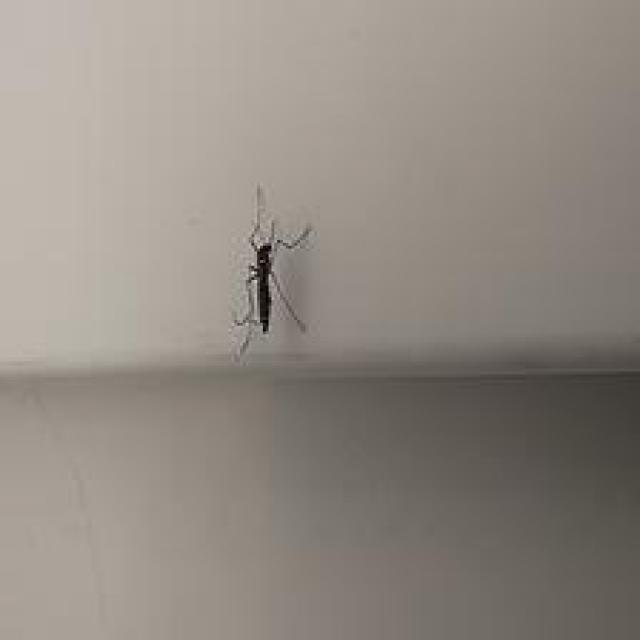Aedes albopictus: (226, 182, 314, 364)
